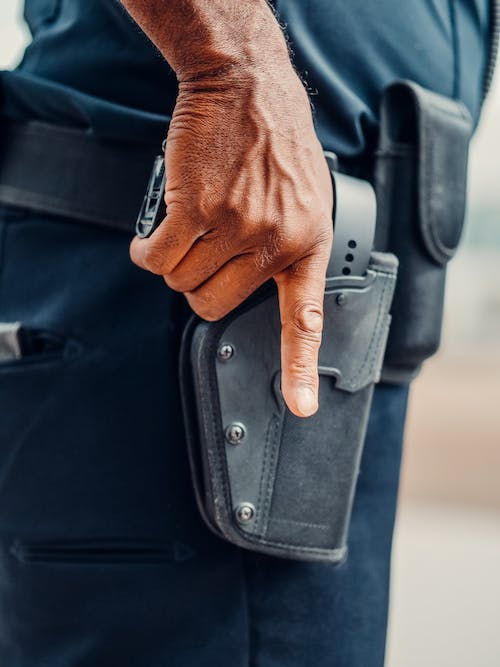gun: (128, 145, 402, 564)
